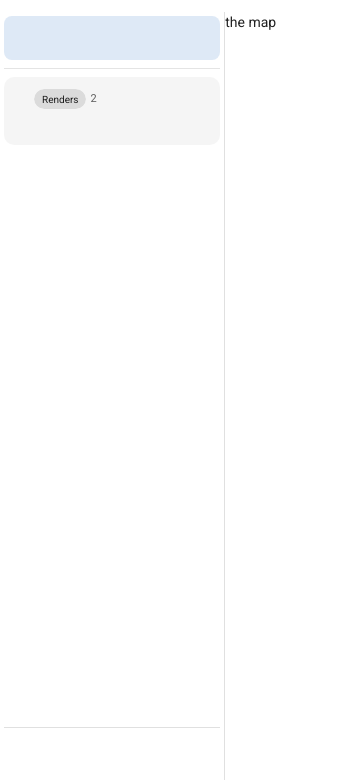
the app.tabBar wrapper around the whole strip does not collide with a tab's own menu › group header: opens exactly one menu on right-click, with the working shortcut shown
The width and height of the screenshot is (361, 780).
Right-click the button with class "mb-tabs-strip__group-head" at x=112, y=99, box [8, 77, 216, 121]
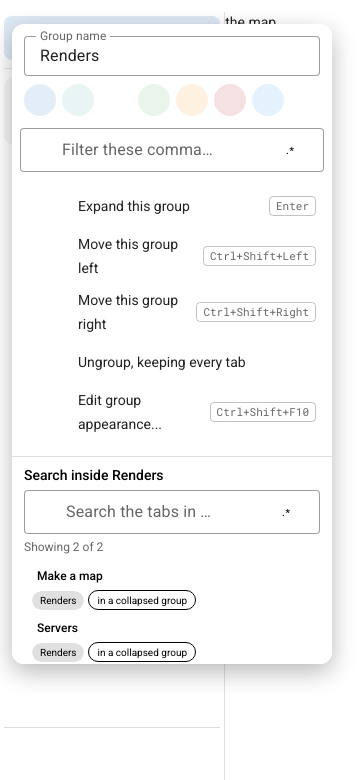
Now the number of elements with class "mb-tabs-menu" is 1, box [12, 128, 332, 448]
Now the text "Edit group appearance..." is shown, box [78, 392, 162, 432]
Now the text with class "mb-tabs-menu__keys" reads "Ctrl+Shift+F10", box [217, 404, 309, 419]
